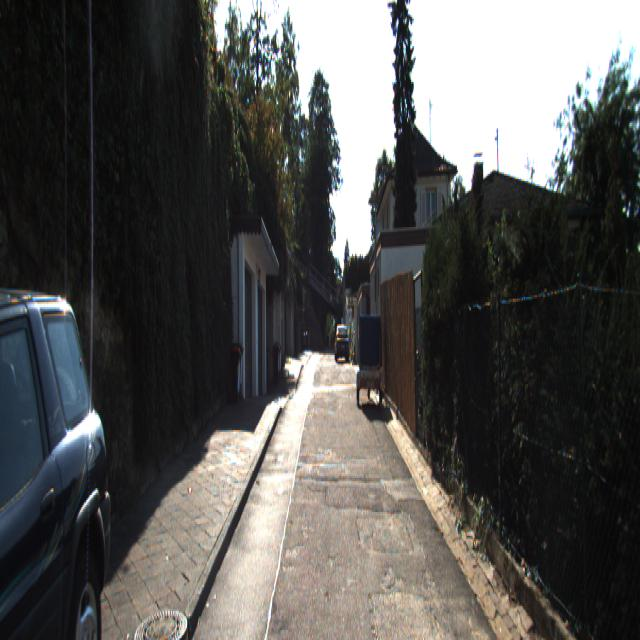Car: (0, 323, 138, 638), (357, 308, 385, 405), (334, 319, 349, 359)
